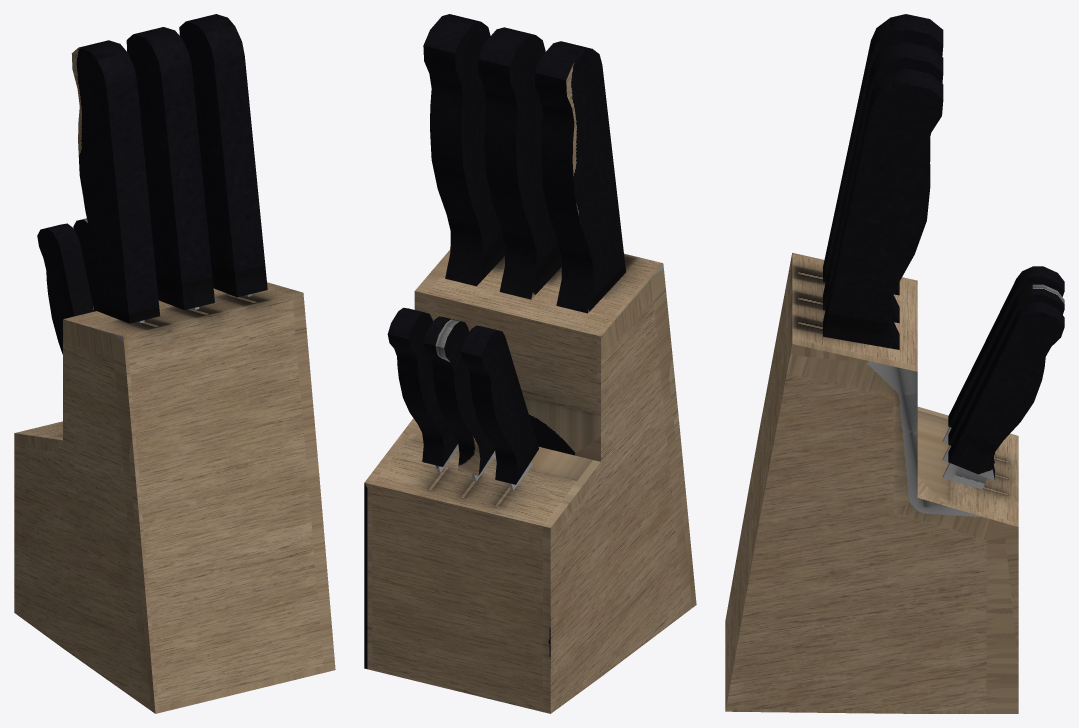
File: frl_apartment_knifeblock.glb
The picture shows the model from 3 angles, left to right: view 1: azimuth 30°, elevation 25°; view 2: azimuth 150°, elevation 25°; view 3: azimuth 270°, elevation 25°; orthographic projection. The views are drawn at different scales.
Parts seen in each view (by area): view 1: frl_apartment_knifeblock; view 2: frl_apartment_knifeblock; view 3: frl_apartment_knifeblock.
Part boxes in pixels (x1,y1,x2,y2): frl_apartment_knifeblock: (14, 14, 335, 713); frl_apartment_knifeblock: (364, 14, 696, 713); frl_apartment_knifeblock: (725, 14, 1064, 713).
Size of the model in its own units: 0.0949 by 0.3002 by 0.1489.
1 material, 1 textured.
